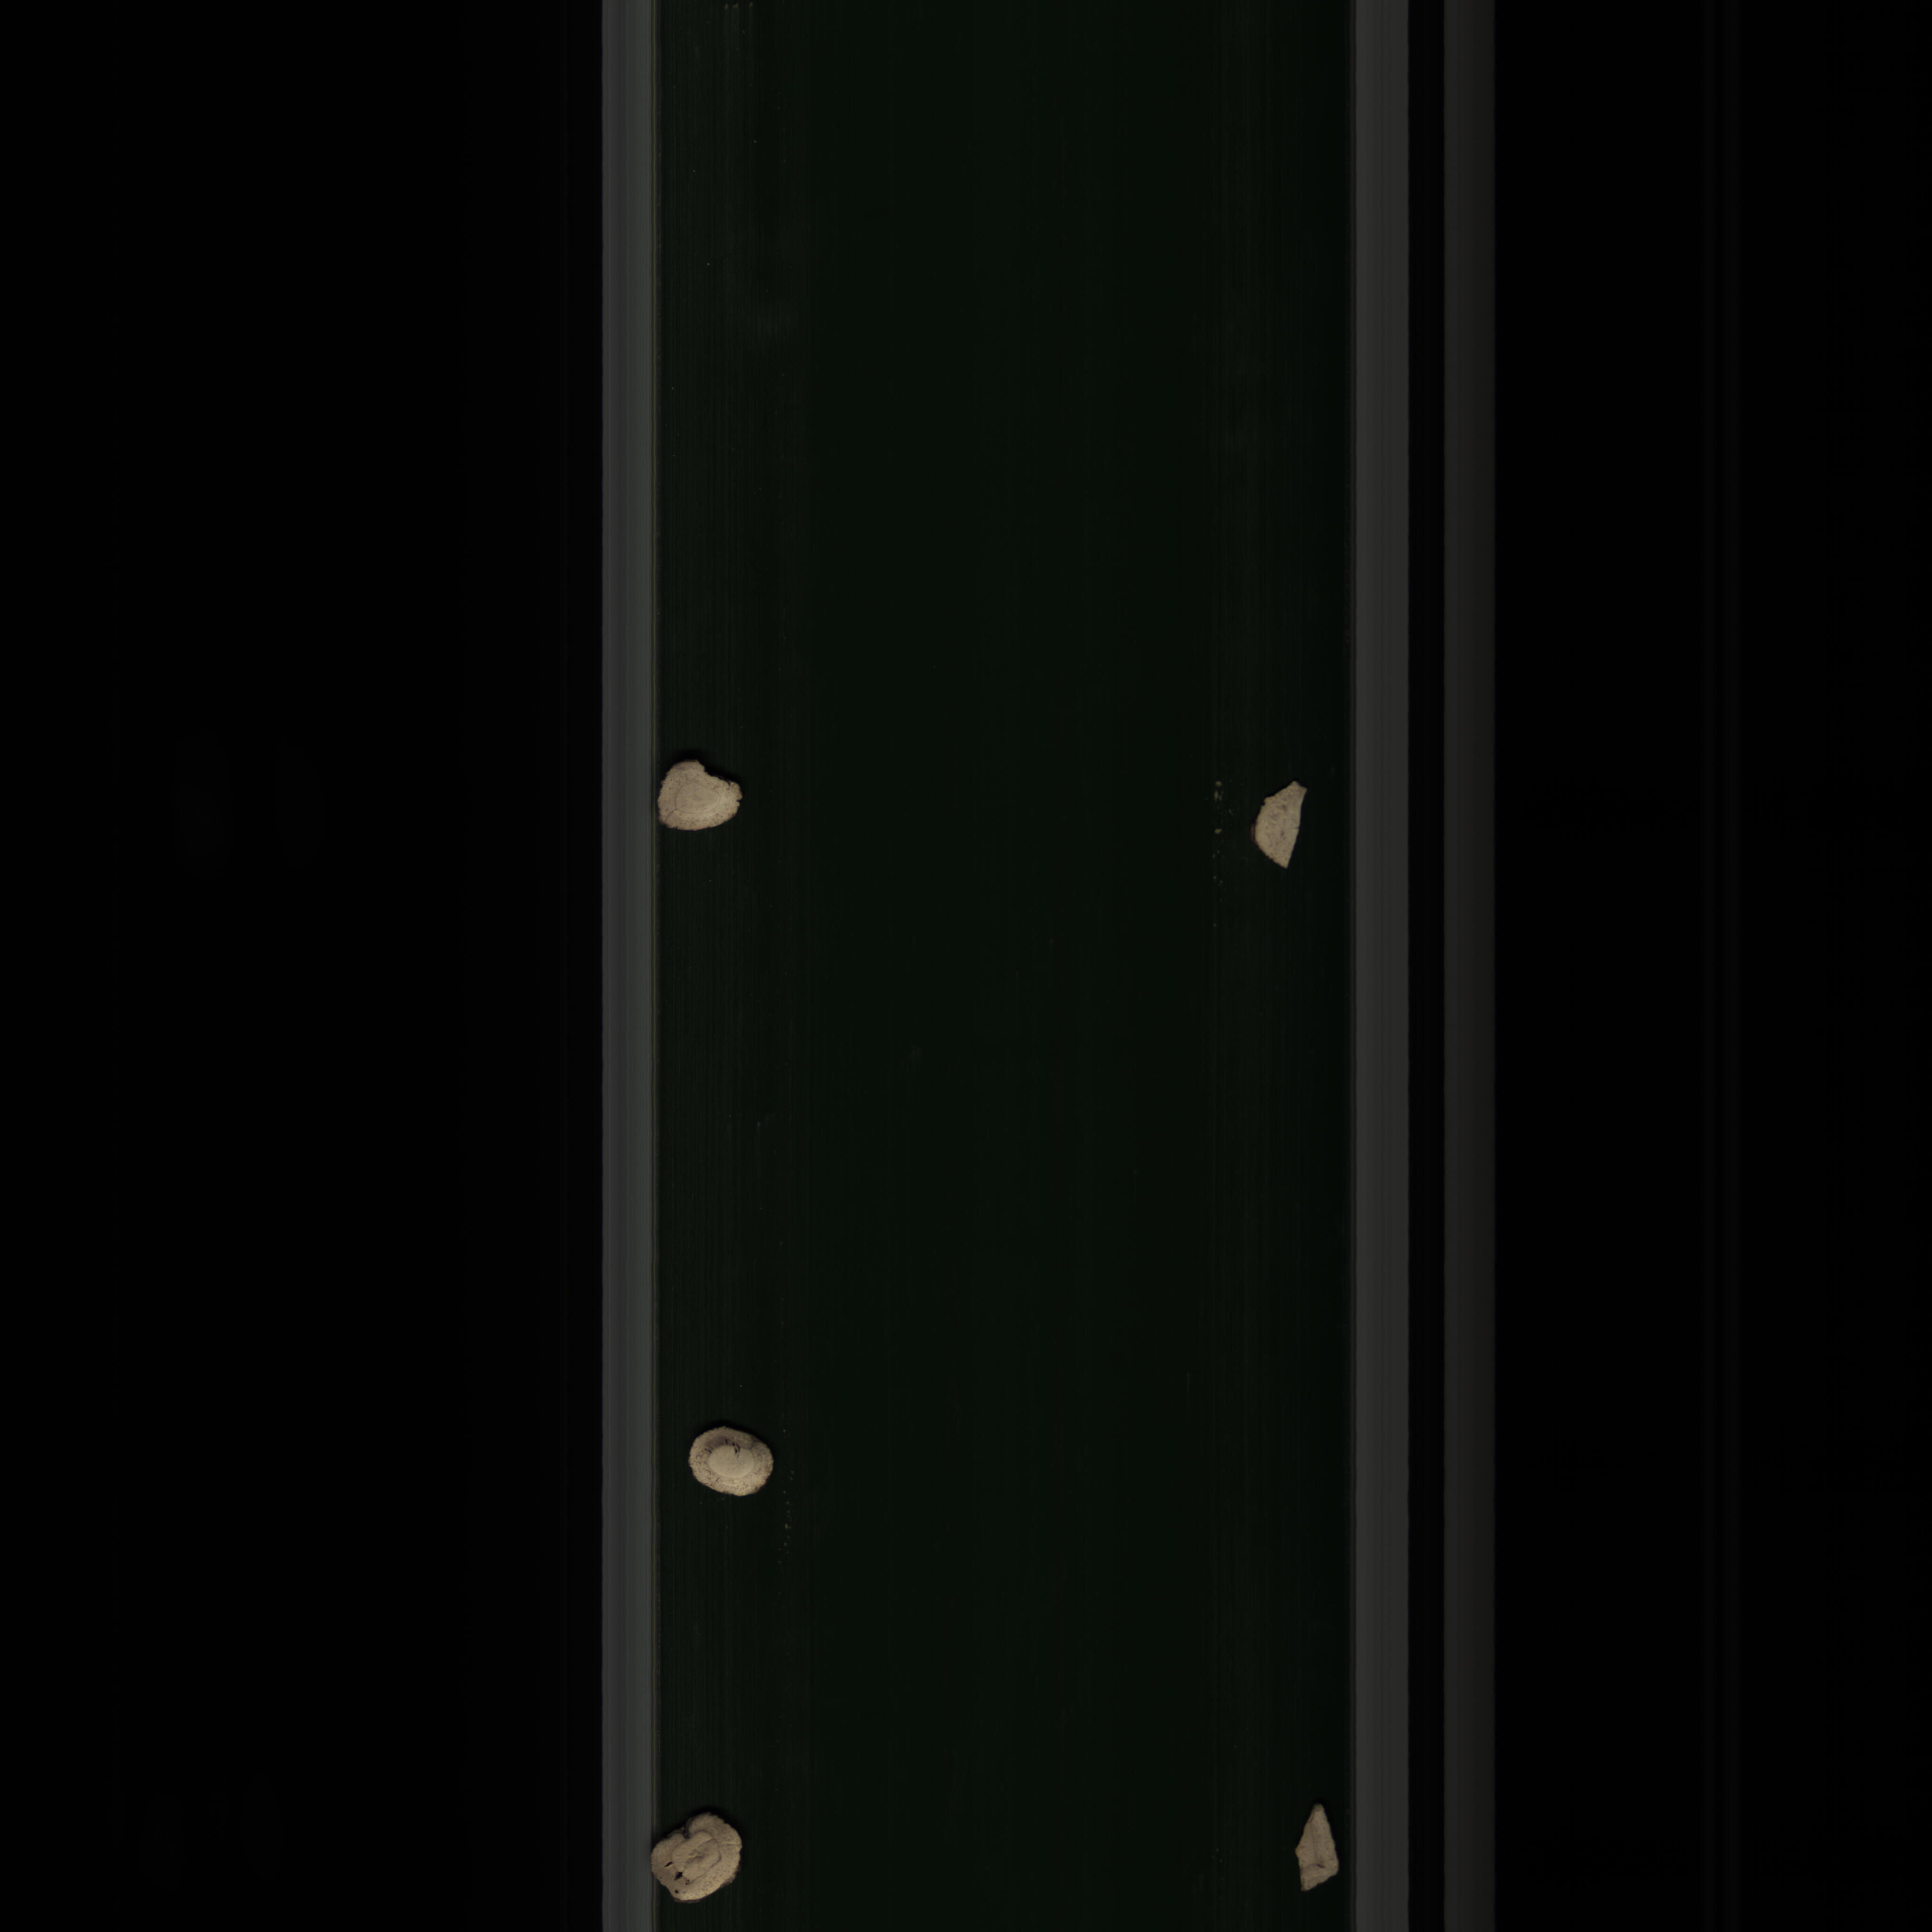debris: (649, 754, 763, 846), (1242, 777, 1318, 879), (1283, 1796, 1348, 1891)
hole: (651, 1803, 748, 1907)
